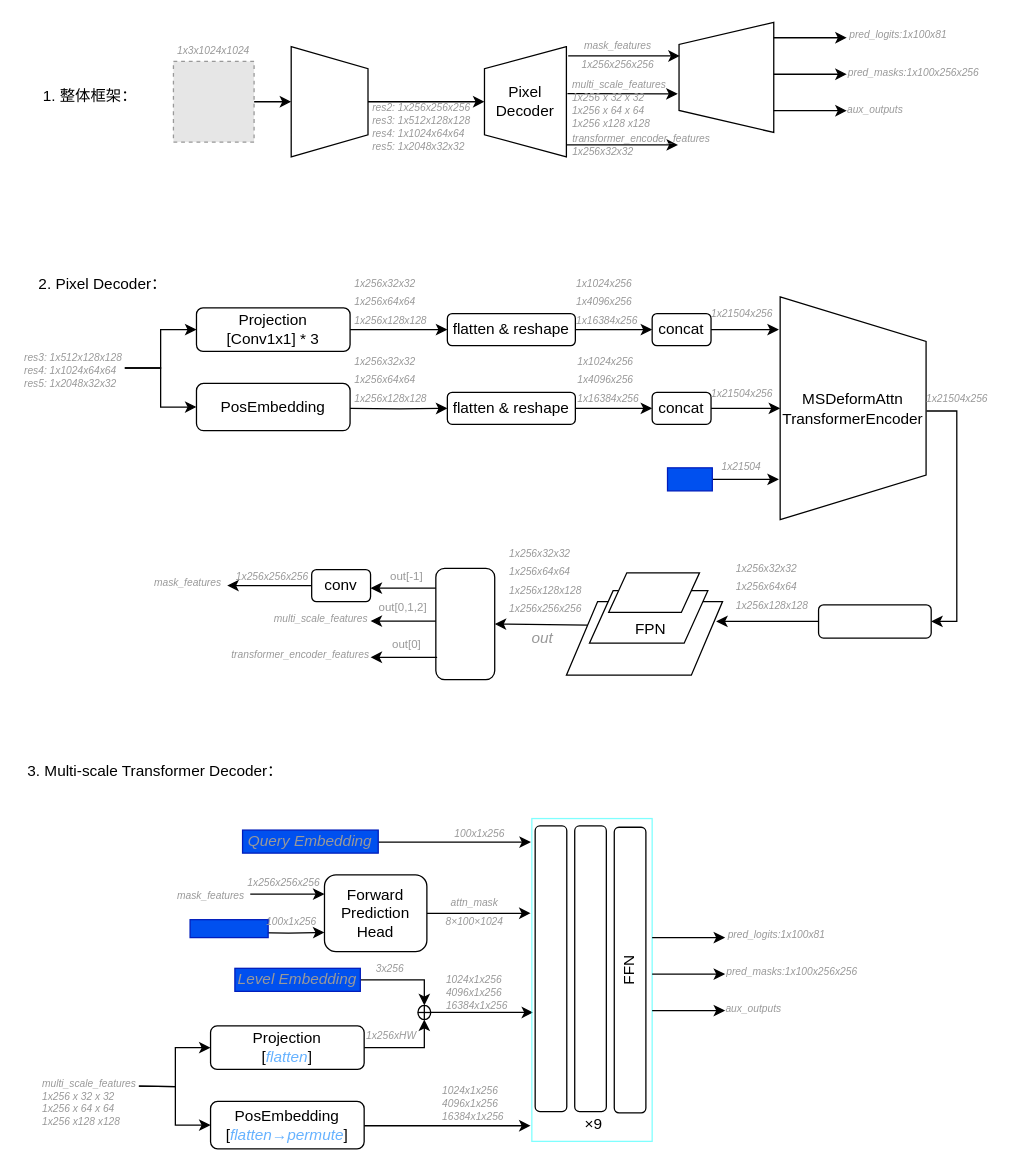
Some shapes in this 1010 by 1171 pixel diagram are drawn without their labels. Grey dashed boxes stand in for pictures. The shapes that lost their labels are listed below. From the top down, each one's centre as x and y in pixels, then its label:
At [726,76]: "MSMasked Transformer Decoder".
At [329,101]: "ResNet50".
At [689,479]: "mask".
At [465,623]: "return".
At [874,621]: "split & reshape".
At [228,928]: "Query Features".
At [550,968]: "CrossAttentionLayer".
At [589,968]: "SelfAttentionLayer".
